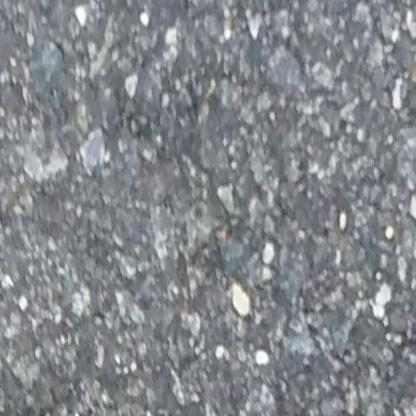Cracks: (3, 394, 107, 416), (391, 392, 416, 416)
